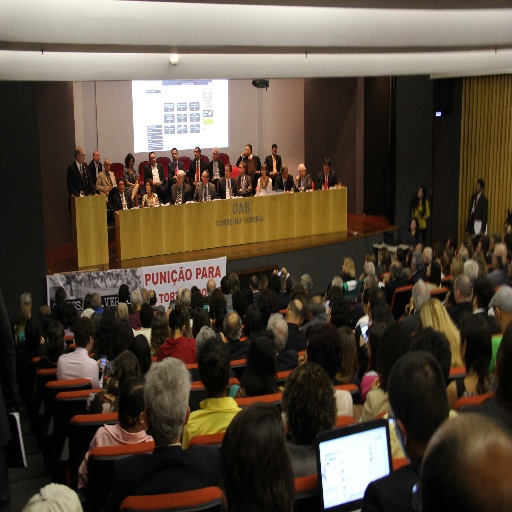hand: (101, 359, 108, 375), (280, 265, 287, 280), (297, 353, 304, 365), (381, 273, 389, 281), (240, 149, 248, 156), (143, 197, 149, 206), (210, 173, 216, 182), (96, 356, 100, 369), (254, 168, 261, 175), (271, 266, 278, 273), (39, 334, 44, 343), (156, 178, 161, 187), (79, 189, 85, 196), (284, 188, 290, 195), (152, 179, 157, 187), (294, 173, 299, 181), (247, 182, 251, 191), (237, 186, 242, 193), (133, 179, 141, 183), (270, 168, 275, 174), (192, 179, 196, 186), (479, 230, 484, 235), (183, 169, 186, 176), (94, 191, 99, 195), (171, 173, 175, 178), (102, 189, 106, 193)
